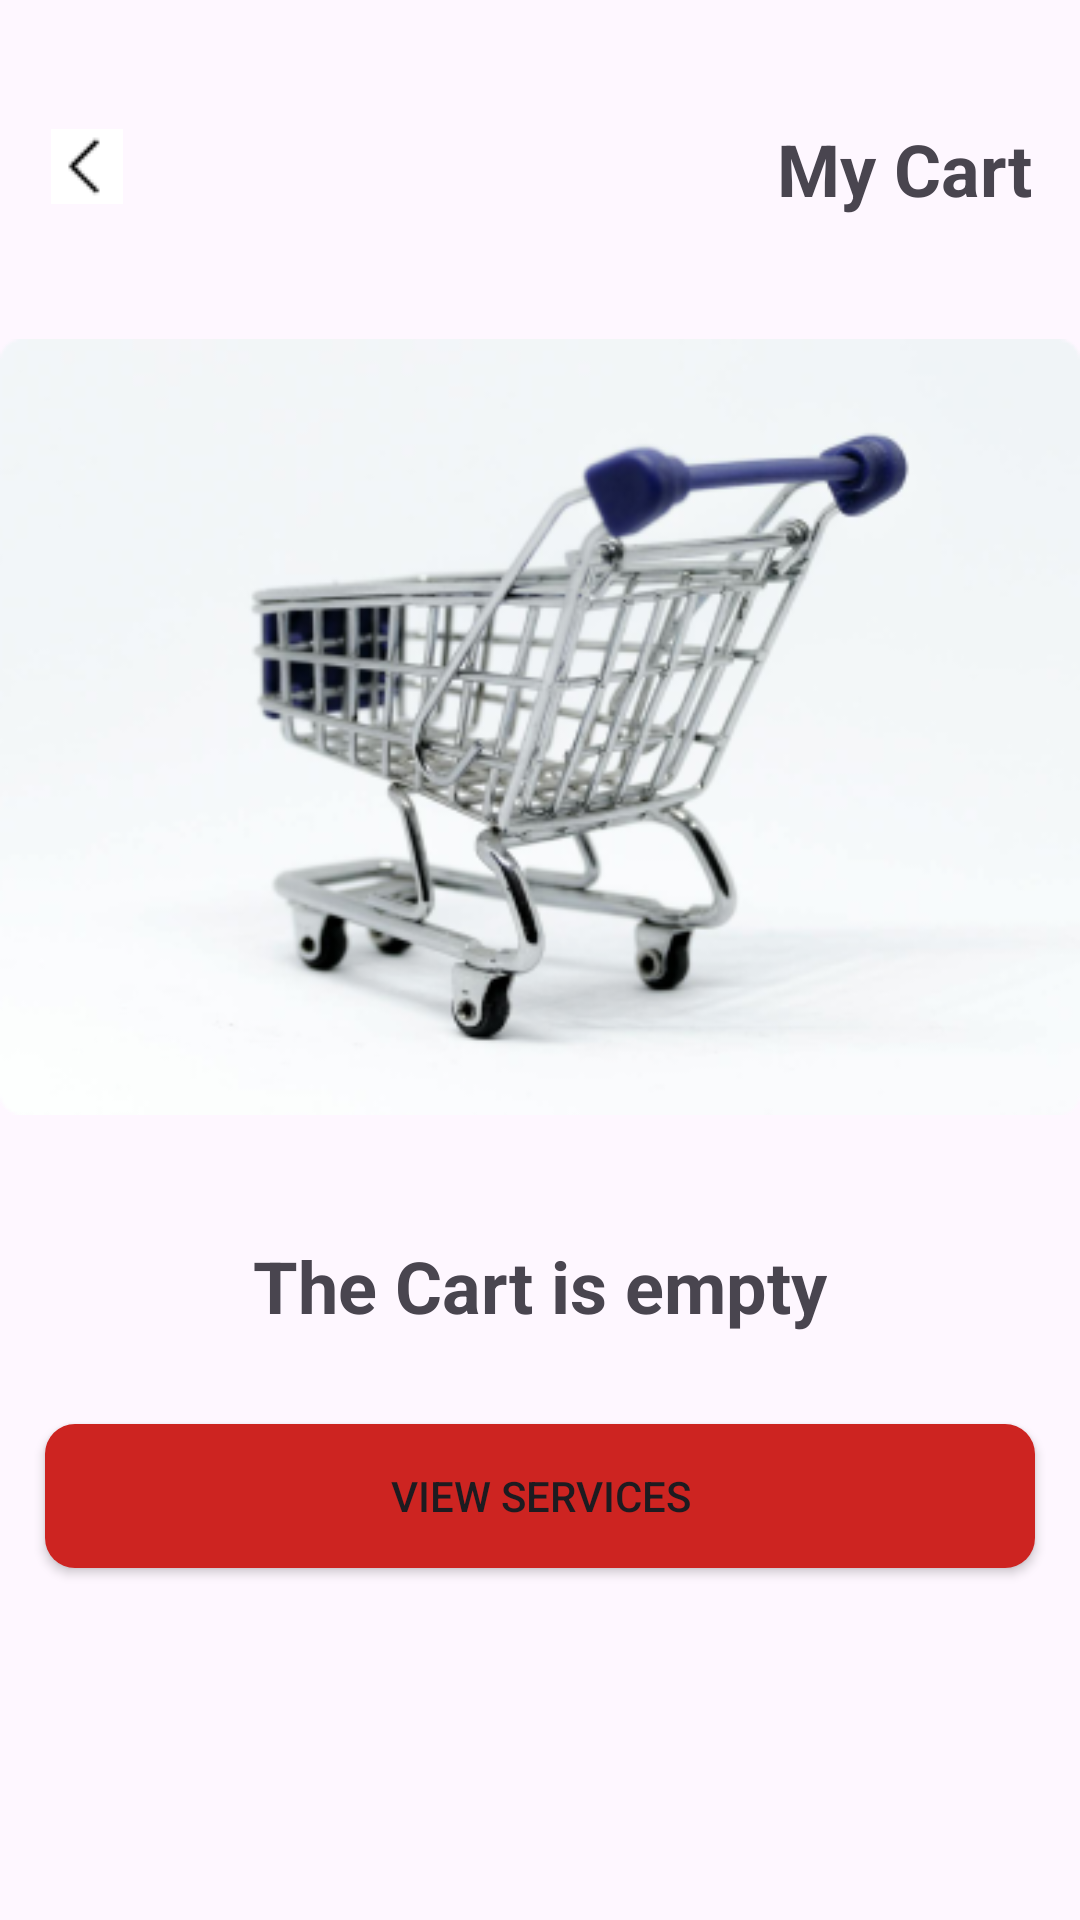

Icons on this 1080×1920 Android screen, each with its box as (x1, y1, x2, y2):
back: (68, 138, 100, 194)
